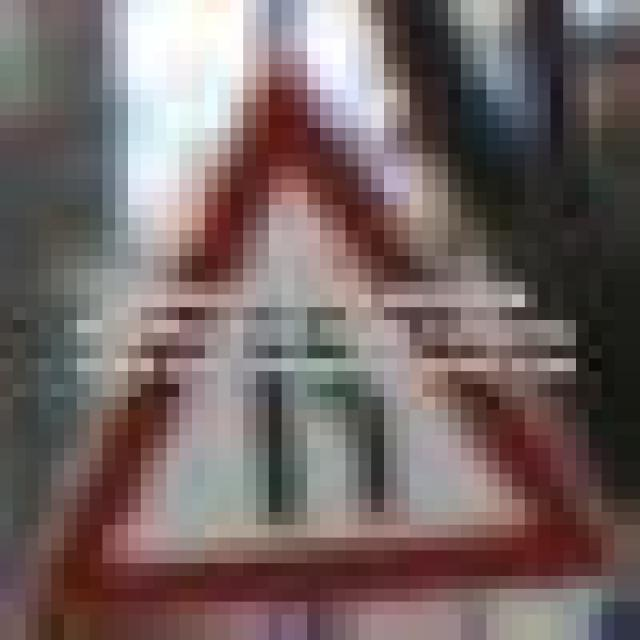narrow_road: (26, 64, 627, 627)
